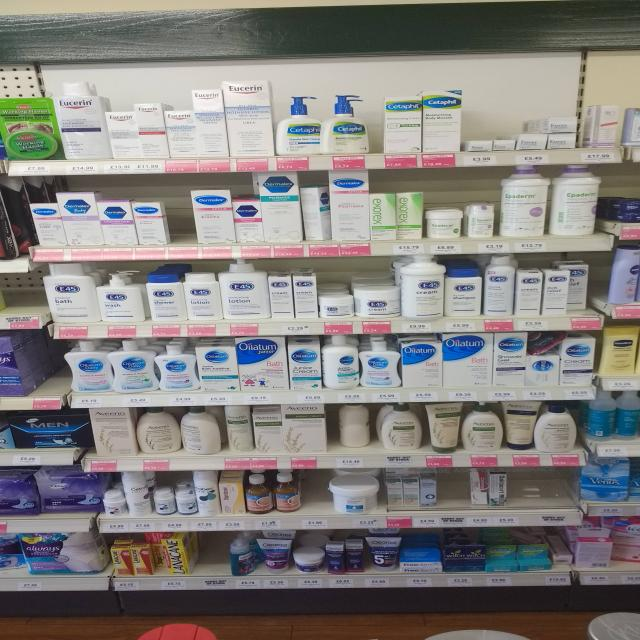empty: (18, 332, 75, 404), (510, 463, 577, 521), (291, 467, 338, 520), (181, 537, 236, 576), (162, 193, 197, 251), (441, 471, 474, 512)
